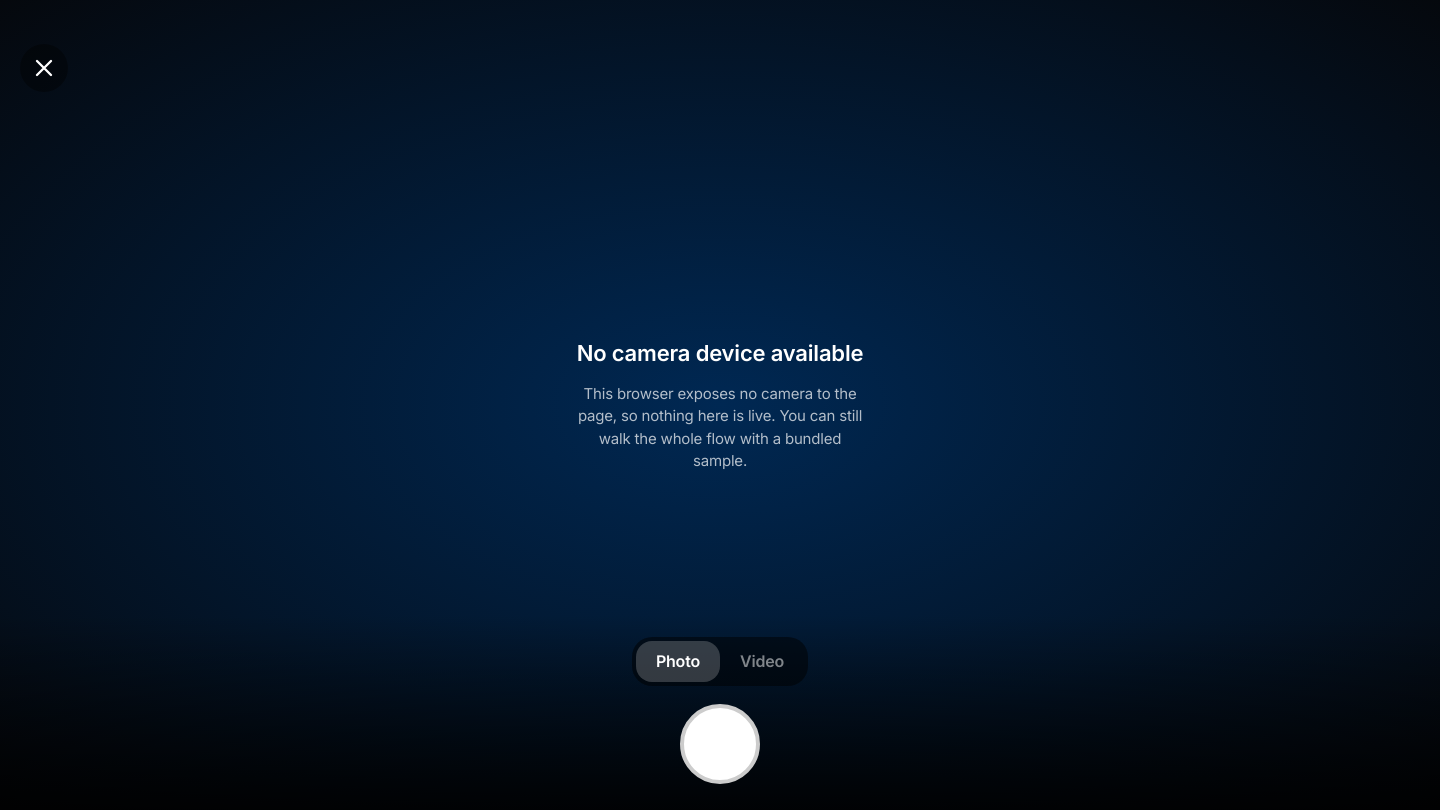
Test: no capture capability — the honest sample path › shows the real filename the base will become, and follows the typing
Click the button named "Attach sample photo" at [720, 744], box [680,704,760,784]
(page scrolled)
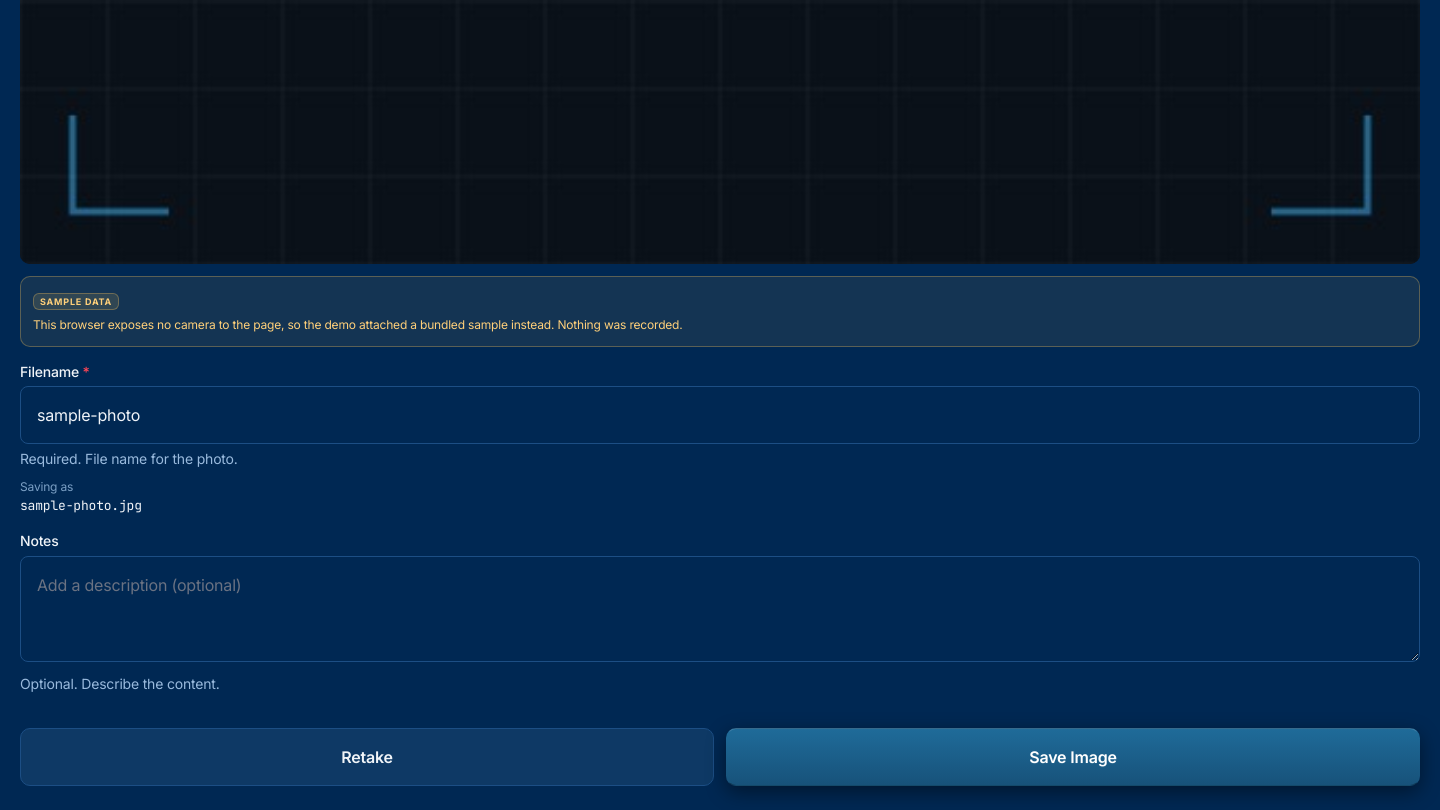
Now the text "sample-photo.jpg" is shown, box [20,497,142,514]
Replace the text in the field named "filename" with "rack front" at [720, 415], box [20,386,1420,444]
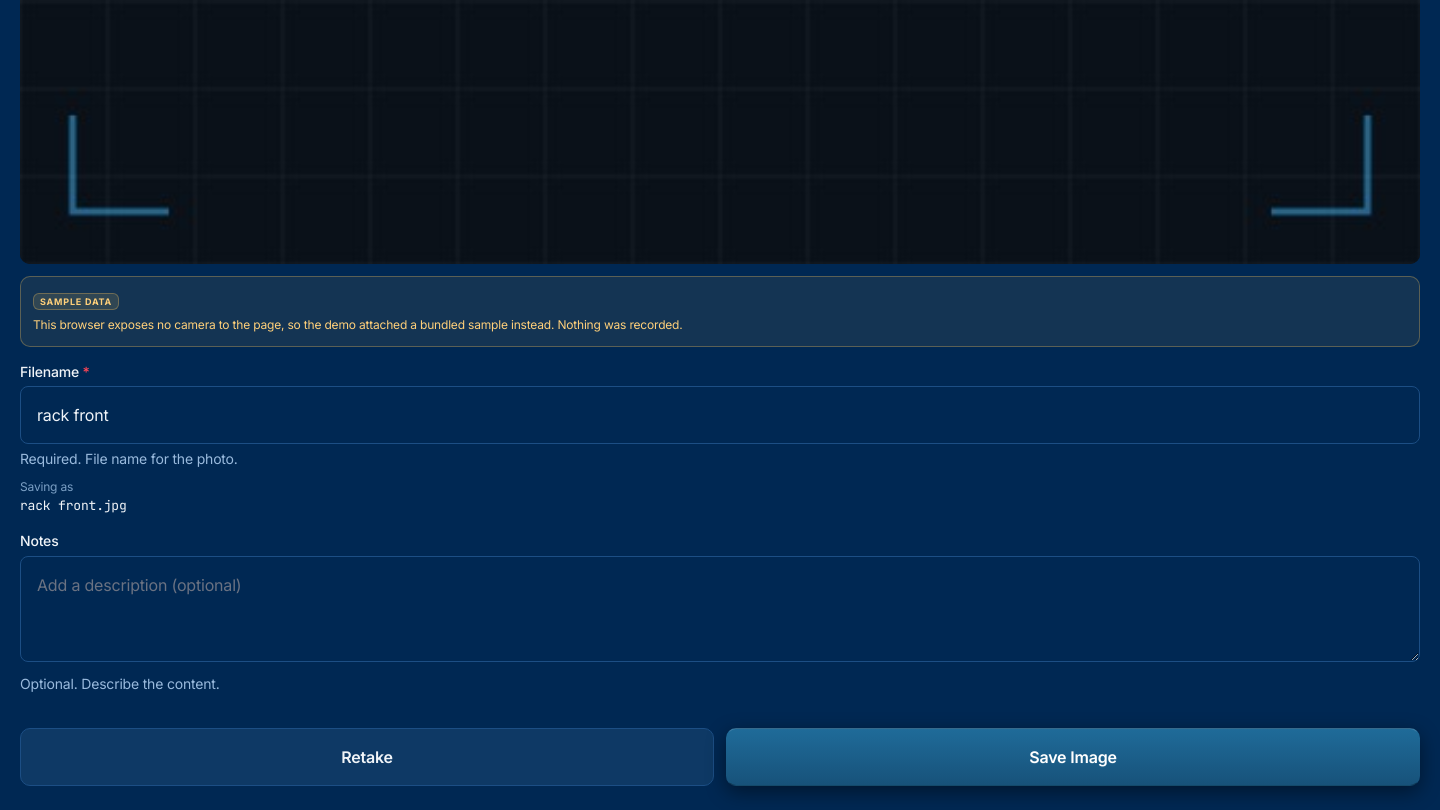
Now the text "rack front.jpg" is shown, box [20,497,127,514]
